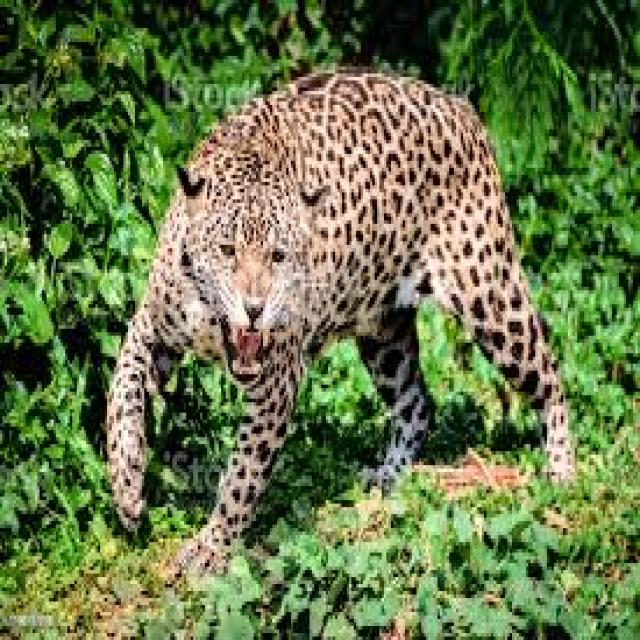Jaguar: (105, 63, 577, 577)
